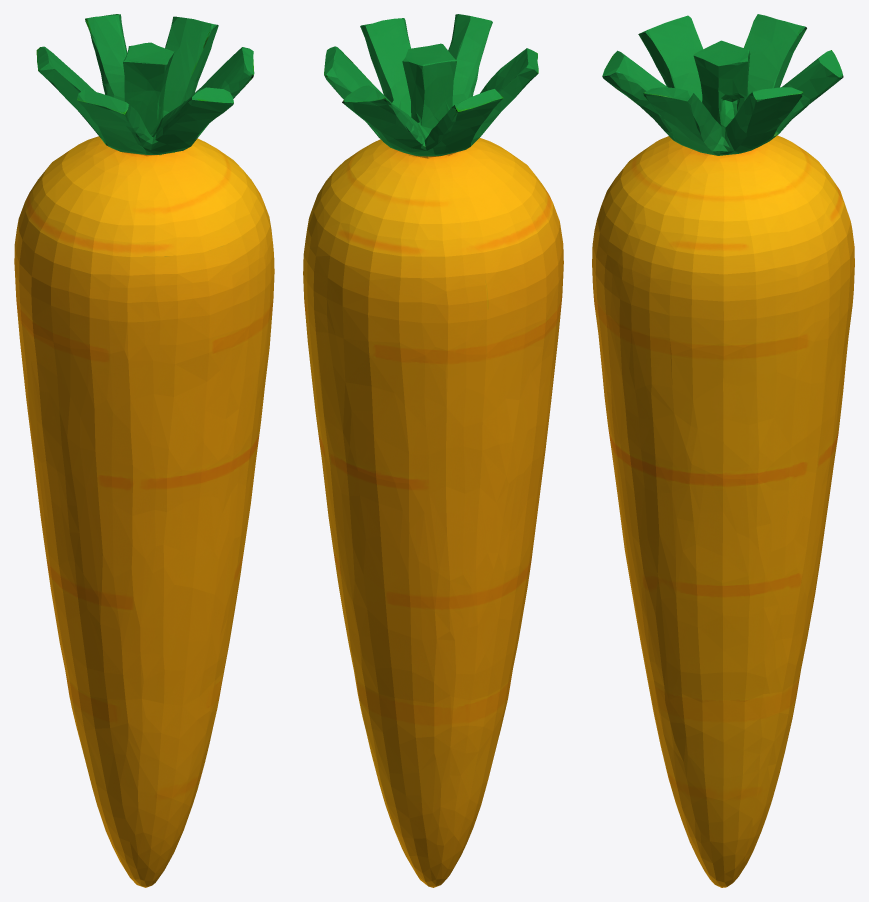
The model's file is carrots.glb.
3 views of the same model, side by side, from view 1: azimuth 30°, elevation 25°; view 2: azimuth 150°, elevation 25°; view 3: azimuth 270°, elevation 25° (orthographic).
Parts seen in each view (by area): view 1: world; view 2: world; view 3: world.
Part boxes in pixels (bbox=[...]): world: bbox=[14, 14, 274, 887]; world: bbox=[303, 14, 563, 887]; world: bbox=[592, 14, 854, 887].
Size of the model in its own units: 0.2828 by 0.9946 by 0.2833.
1 material, 1 textured.
